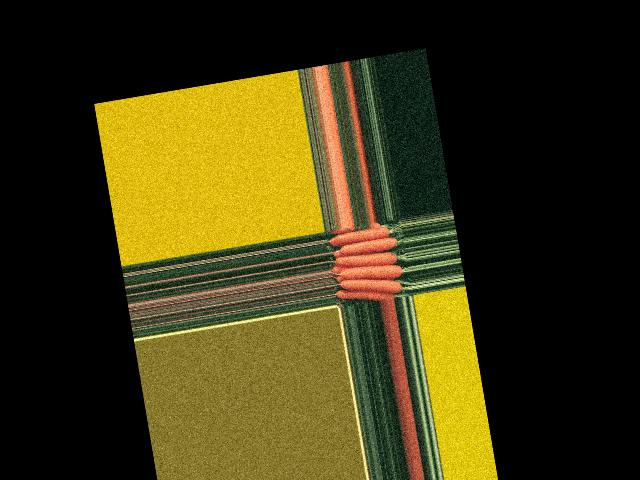carrot: (336, 280, 397, 308)
